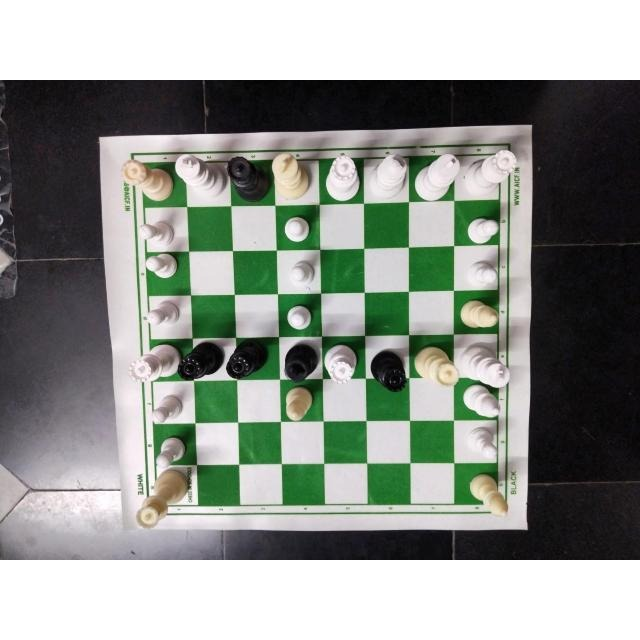black-king: (279, 340, 323, 380)
black-queen: (367, 350, 412, 393), (223, 154, 263, 201), (178, 342, 222, 380), (225, 341, 261, 377)
white-bishop: (467, 469, 515, 520), (461, 380, 505, 418), (457, 294, 502, 330), (284, 385, 316, 420)
white-king: (164, 152, 226, 201), (458, 343, 512, 387), (415, 151, 461, 199), (369, 153, 409, 202), (270, 151, 307, 200)
white-pawn: (136, 211, 184, 247), (148, 434, 192, 470), (465, 423, 499, 465), (459, 215, 502, 245), (462, 260, 508, 288), (143, 304, 187, 332), (283, 301, 317, 334), (282, 212, 317, 244), (143, 253, 180, 283), (147, 396, 186, 424), (287, 257, 319, 289)
white-queen: (135, 468, 187, 532), (120, 152, 172, 201), (416, 337, 460, 394), (128, 337, 180, 381), (323, 155, 366, 203), (325, 346, 369, 382)
